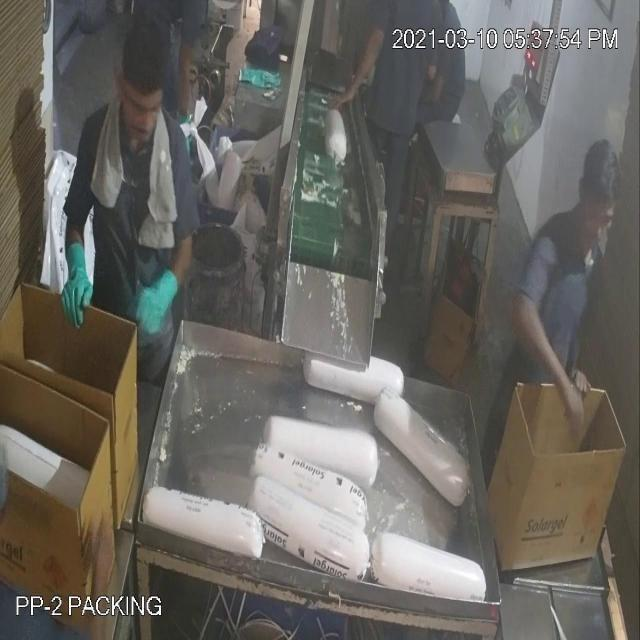box: (0, 282, 139, 526), (0, 359, 113, 640), (485, 381, 627, 572), (423, 297, 476, 387)
